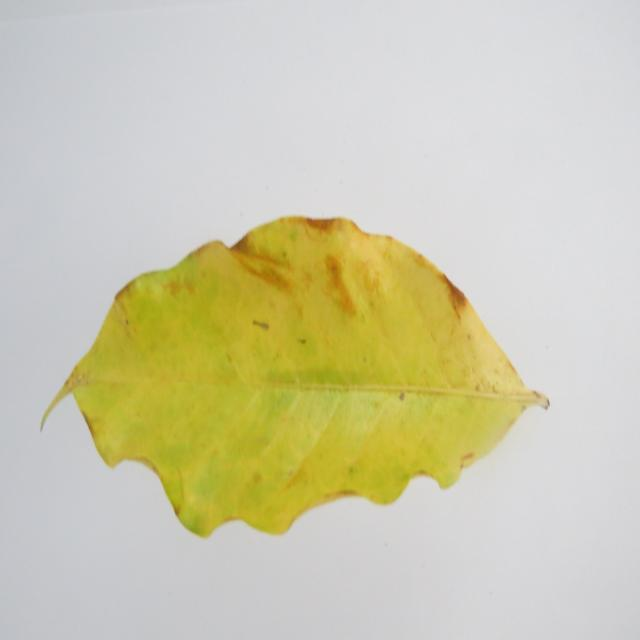DeficienciaNutricional-Calcio: (42, 217, 549, 537)
